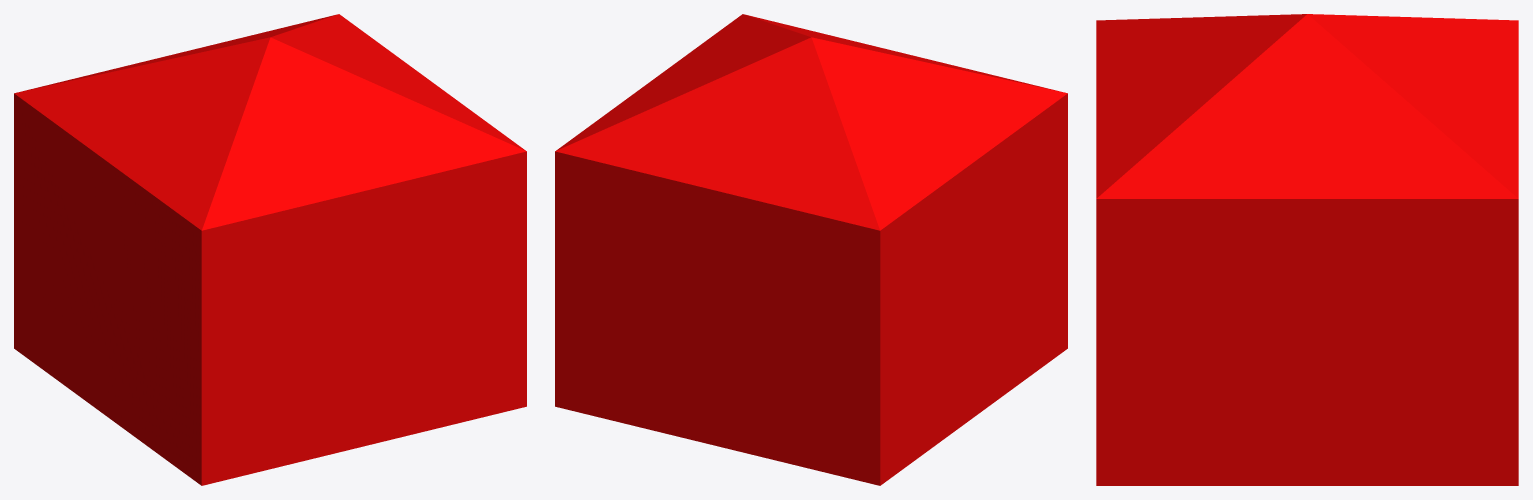
The model's file is TetrisB.fbx.
3 views of the same model, side by side, from view 1: azimuth 30°, elevation 25°; view 2: azimuth 150°, elevation 25°; view 3: azimuth 270°, elevation 25° (orthographic). The views are drawn at different scales.
Visible parts, largest first — view 1: Cube; view 2: Cube; view 3: Cube.
Part boxes in pixels (x1,y1,x2,y2): Cube: (14, 14, 526, 485); Cube: (555, 14, 1067, 485); Cube: (1096, 14, 1518, 485).
Bounding box in the file's own units: 200 × 200 × 200.
